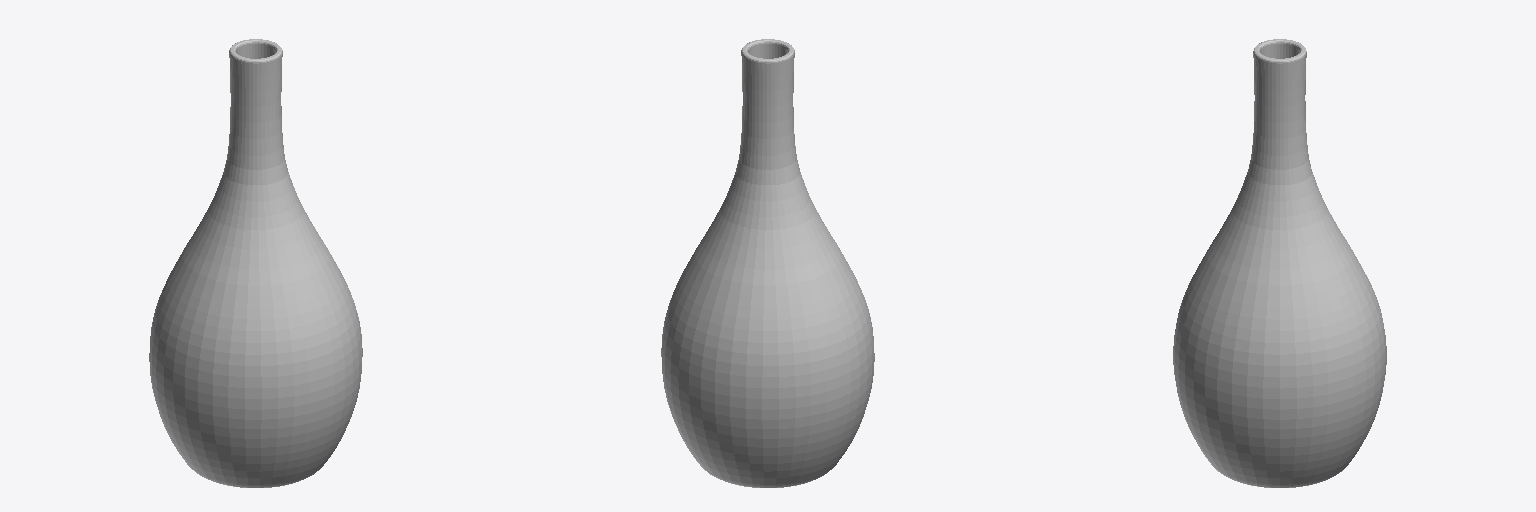
The model's file is vase_B.obj.
The picture shows the model from 3 angles: view 1: azimuth 30°, elevation 25°; view 2: azimuth 150°, elevation 25°; view 3: azimuth 270°, elevation 25°; orthographic projection.
Parts seen in each view (by area): view 1: Vase_B_Mesh; view 2: Vase_B_Mesh; view 3: Vase_B_Mesh.
Part boxes in pixels (left/top/right/bottom): Vase_B_Mesh: left=149, top=39, right=362, bottom=487; Vase_B_Mesh: left=661, top=39, right=874, bottom=487; Vase_B_Mesh: left=1173, top=39, right=1386, bottom=487.
Bounding box in the file's own units: 0.0806 × 0.172 × 0.0806.